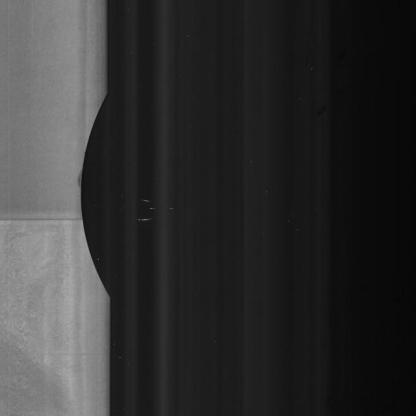welding_line: (0, 210, 85, 236)
